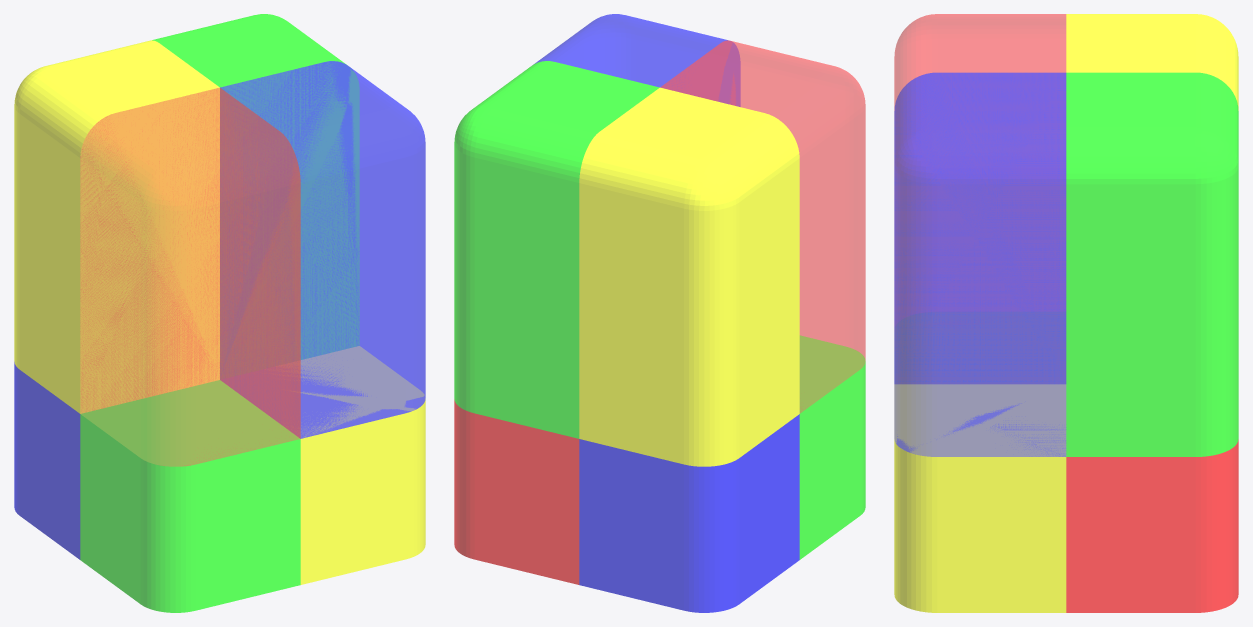
The model's file is BoxeM3.glb.
3 renders of one model, left to right at view 1: azimuth 30°, elevation 25°; view 2: azimuth 150°, elevation 25°; view 3: azimuth 270°, elevation 25°, orthographic. The views are drawn at different scales.
Parts seen in each view (by area): view 1: Red, Blue, Yellow, Green; view 2: Yellow, Green, Red, Blue; view 3: Green, Blue, Red, Yellow.
Part boxes in pixels (x1,y1,x2,y2): Red: (80, 88, 300, 612); Blue: (220, 61, 425, 584); Yellow: (14, 40, 219, 559); Green: (152, 14, 359, 359); Yellow: (579, 87, 799, 612); Green: (454, 61, 659, 584); Red: (660, 40, 865, 559); Blue: (533, 14, 740, 106); Green: (1066, 72, 1238, 612); Blue: (894, 72, 1066, 612); Red: (894, 14, 1066, 383); Yellow: (1066, 14, 1238, 110).
Size of the model in its own units: 2 by 3 by 2.
